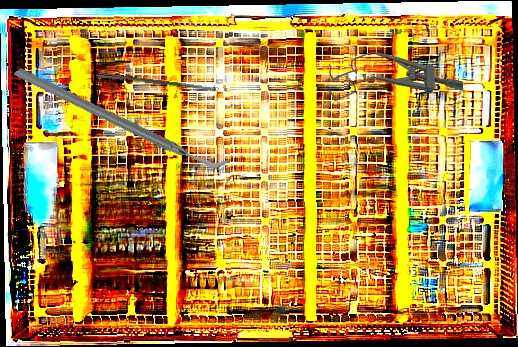Chopper: (11, 2, 233, 233)
Speculum: (328, 52, 463, 101)
Surgical Spoon: (95, 72, 219, 93)
